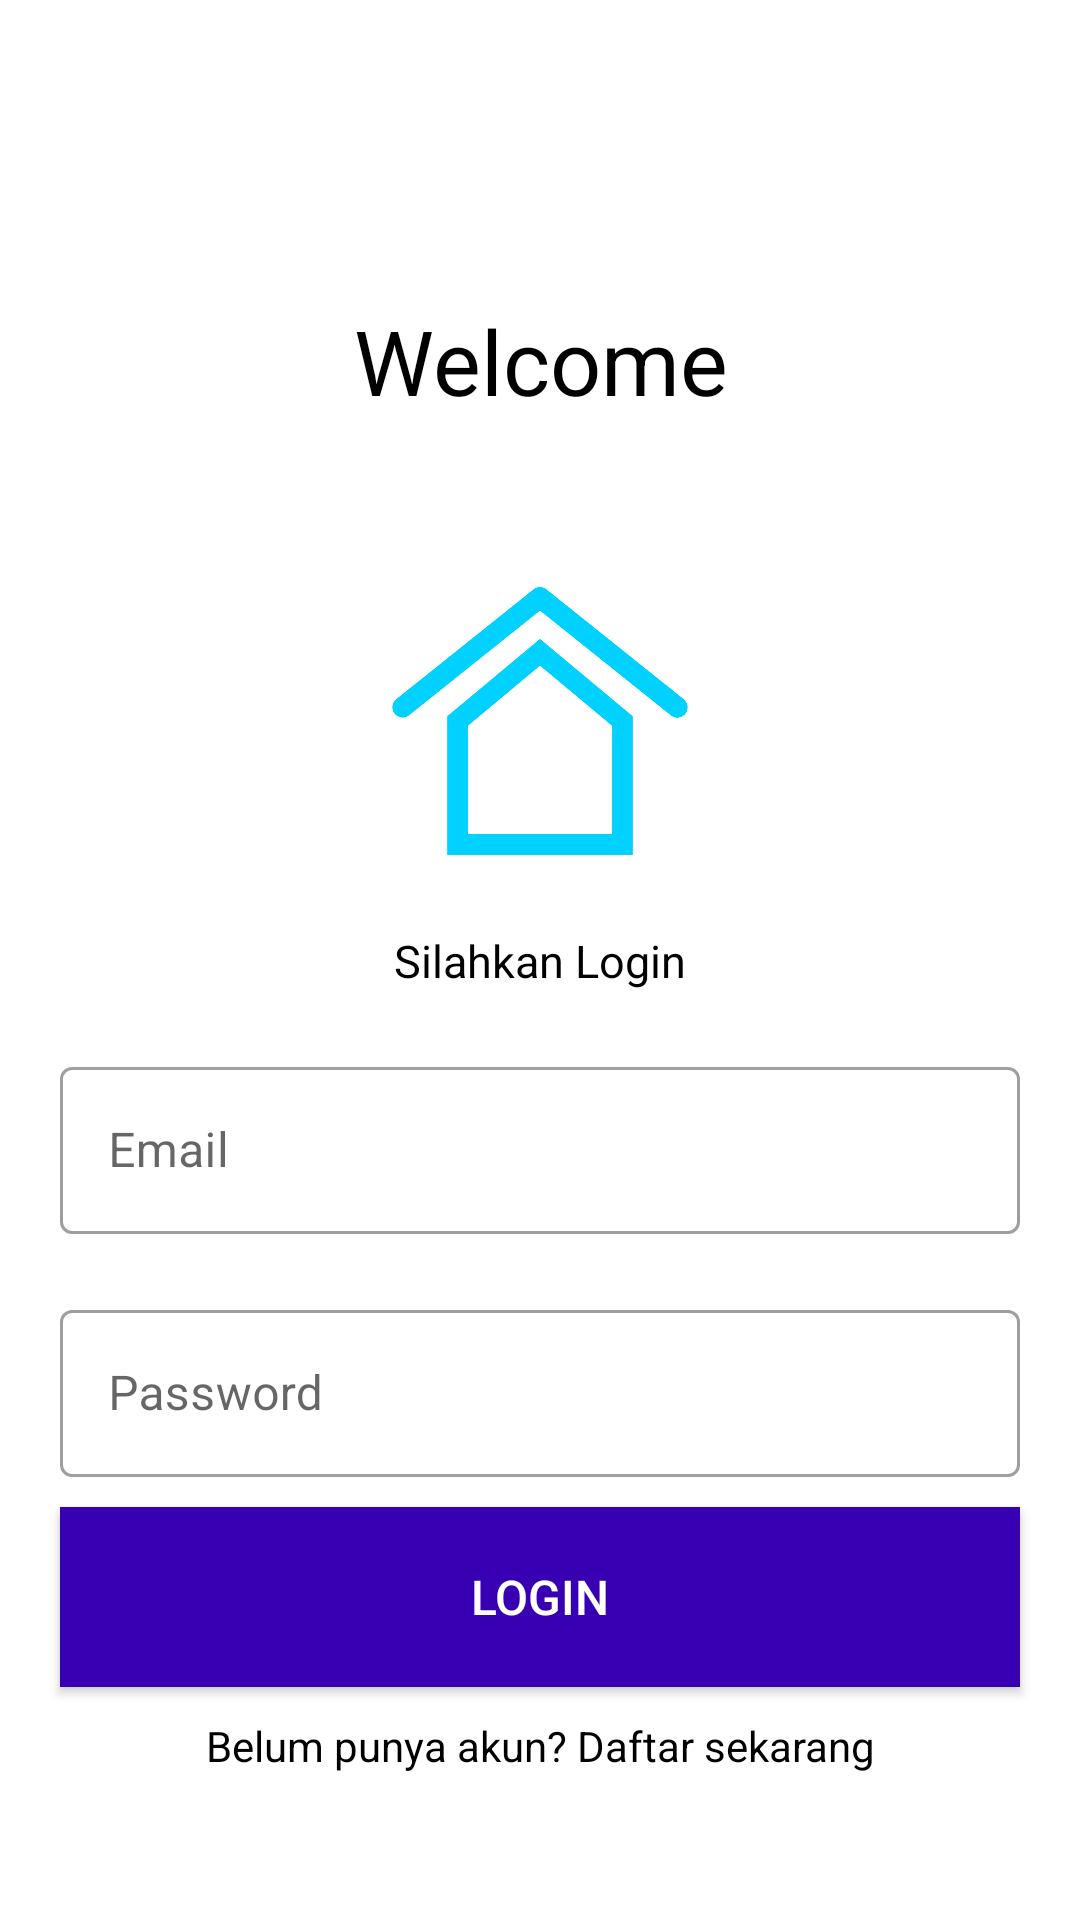

Icon bounding boxes for this 1080*1920 phone screenshot, format rect(x1, y1, x2, y2):
home: rect(392, 587, 688, 855)
